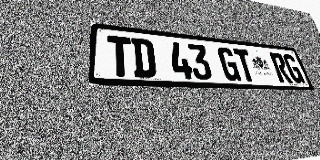3: (187, 44, 213, 80)
4: (168, 42, 194, 79)
D: (131, 38, 157, 78)
G: (217, 47, 242, 81), (282, 54, 305, 84)
R: (269, 52, 293, 83)
T: (107, 35, 133, 77), (233, 48, 257, 82)
